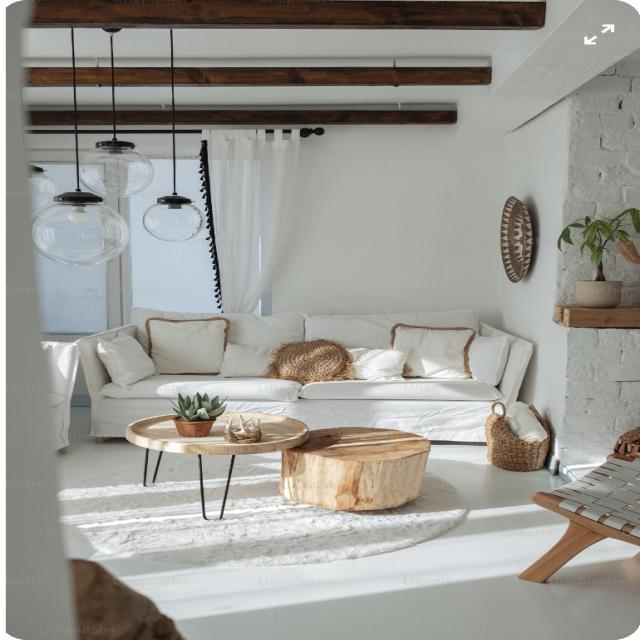lamp: (31, 183, 140, 271), (133, 170, 224, 250), (75, 132, 159, 197)
pillow: (135, 314, 235, 377), (388, 320, 474, 380)
potted plant: (567, 208, 636, 312), (173, 388, 223, 436)
sofa: (83, 314, 532, 443)
table: (129, 408, 308, 512), (285, 416, 429, 520)
